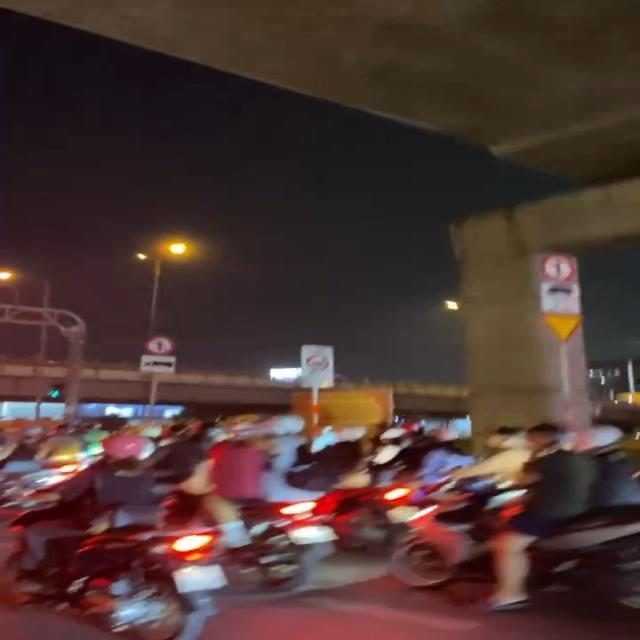136-cam-di-thang: (540, 252, 578, 282), (144, 334, 176, 356)
208-giao-nhau-voi-duong-uu-tien: (539, 312, 586, 344)
